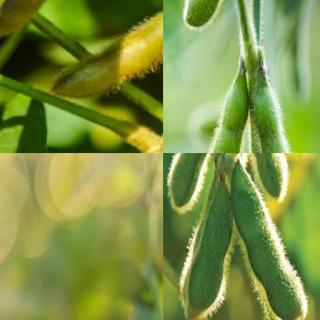soya: (231, 164, 308, 319), (50, 9, 162, 96), (183, 188, 232, 319), (174, 70, 248, 152), (254, 70, 308, 152), (166, 153, 222, 212), (244, 153, 290, 200), (182, 0, 231, 30)
